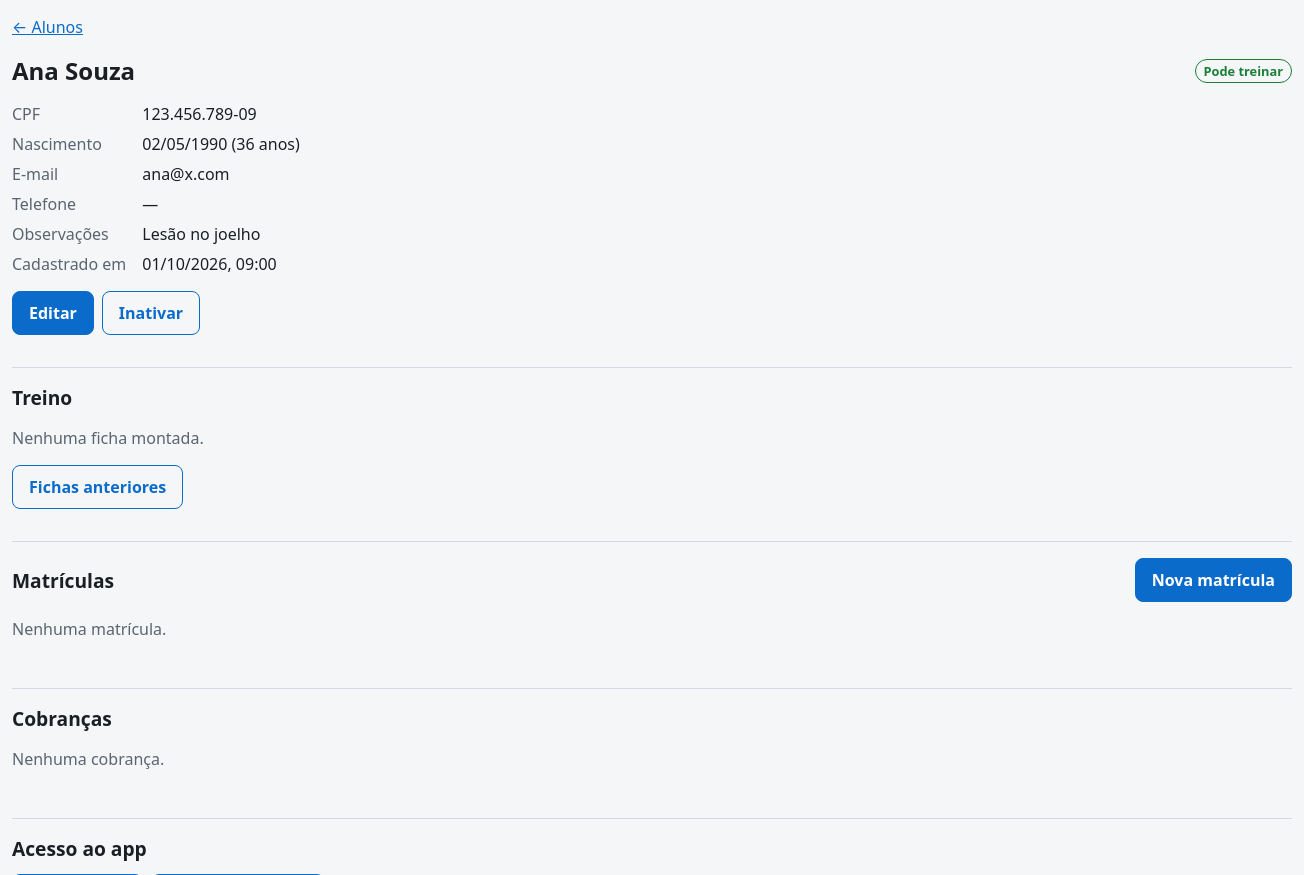
it: cadastro do aluno › editar manda a versão lida e campo vazio como null
Click the button "Editar" at (53, 313), box x1=12 y1=291 x2=94 y2=335
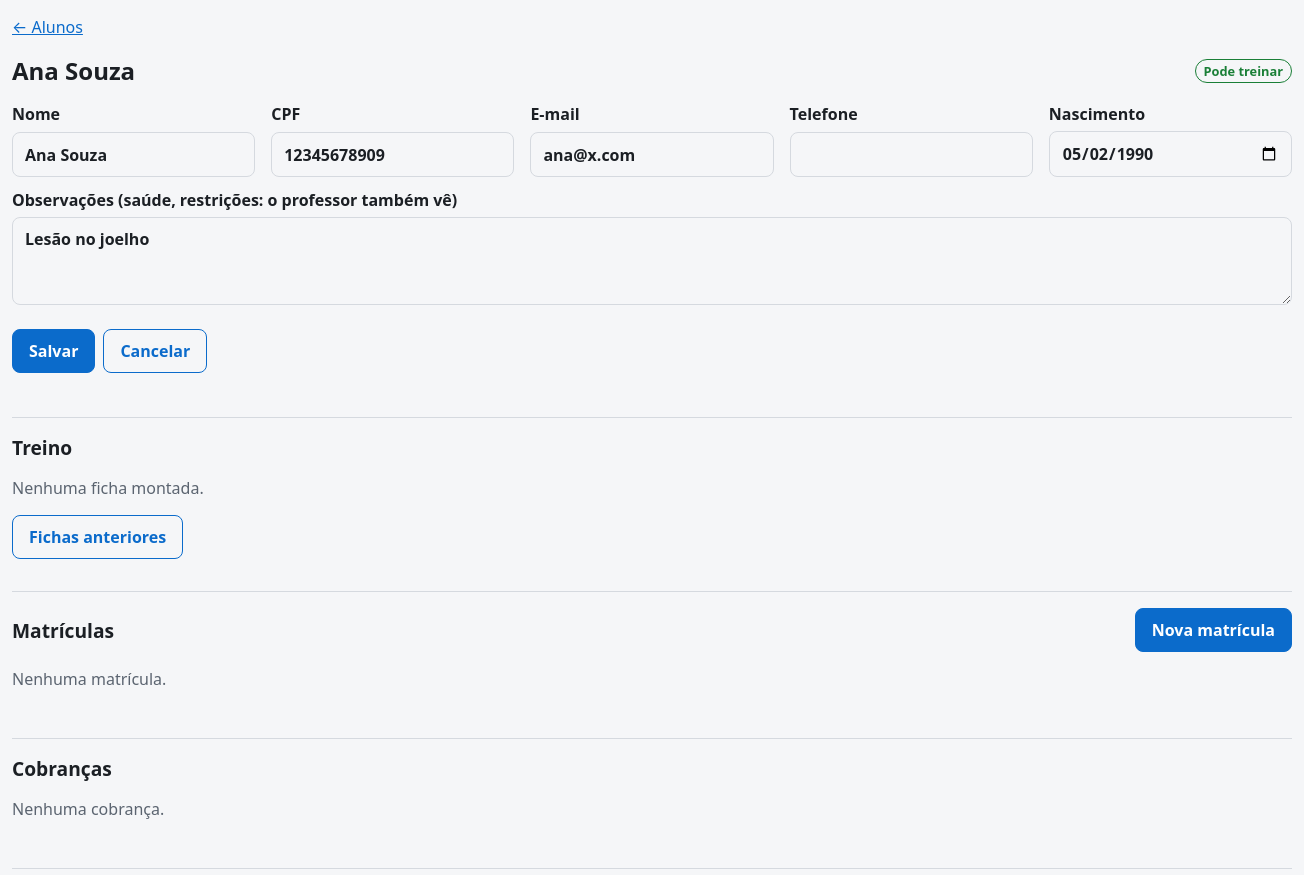
Clear the field labelled "E-mail" at (652, 154), box x1=530 y1=132 x2=774 y2=177
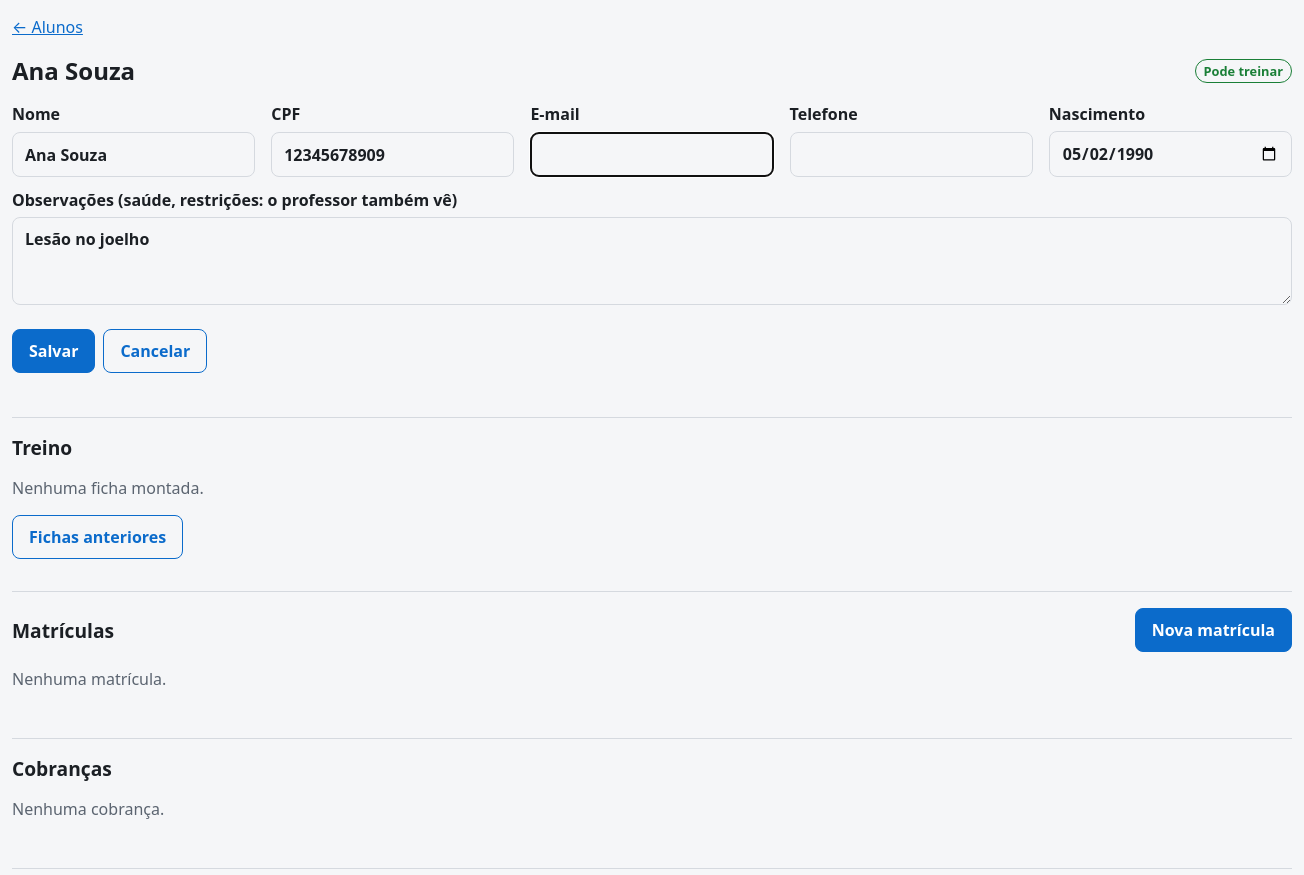
Click the button "Salvar" at (54, 351), box x1=12 y1=329 x2=95 y2=373
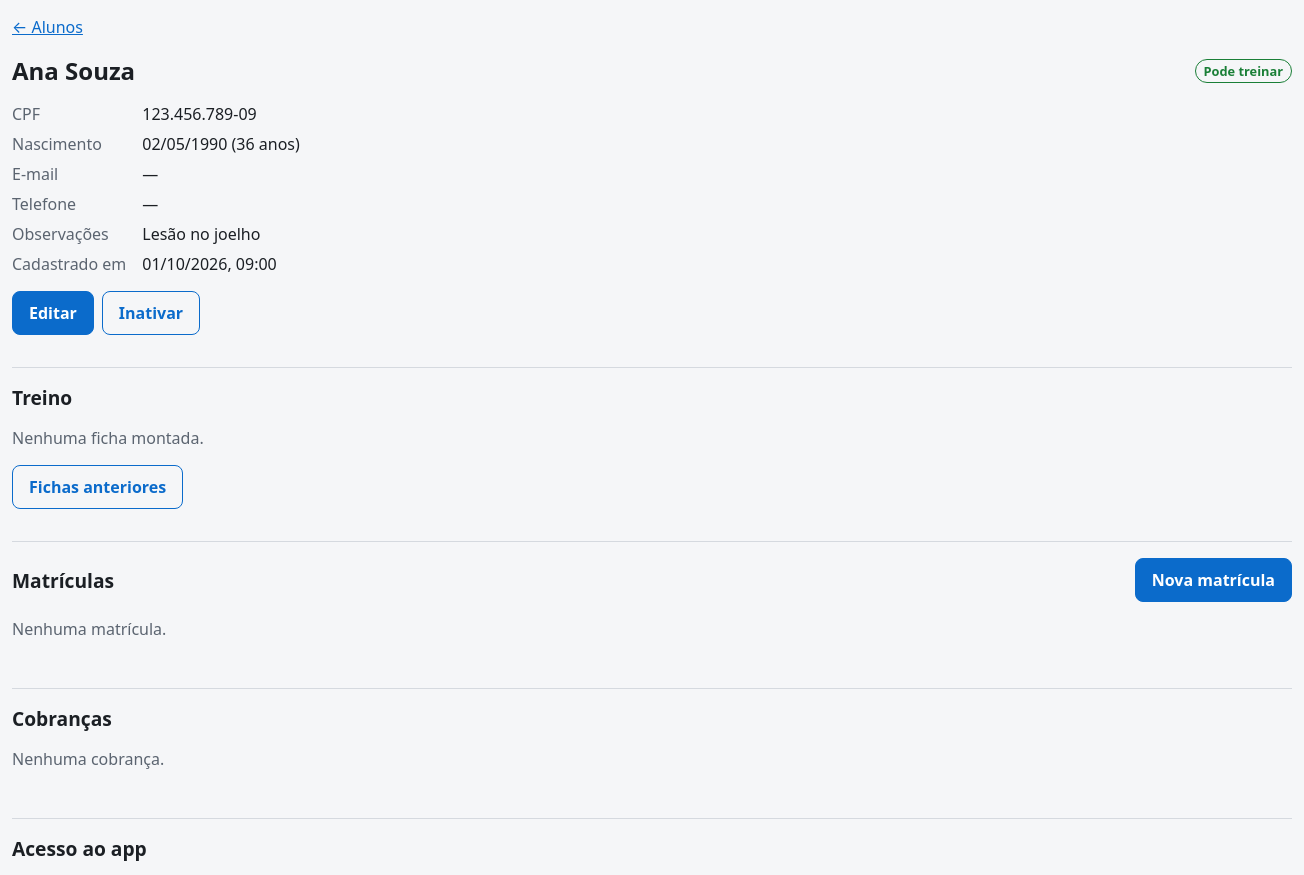
Check: the button "Editar" is shown, box x1=12 y1=291 x2=94 y2=335
